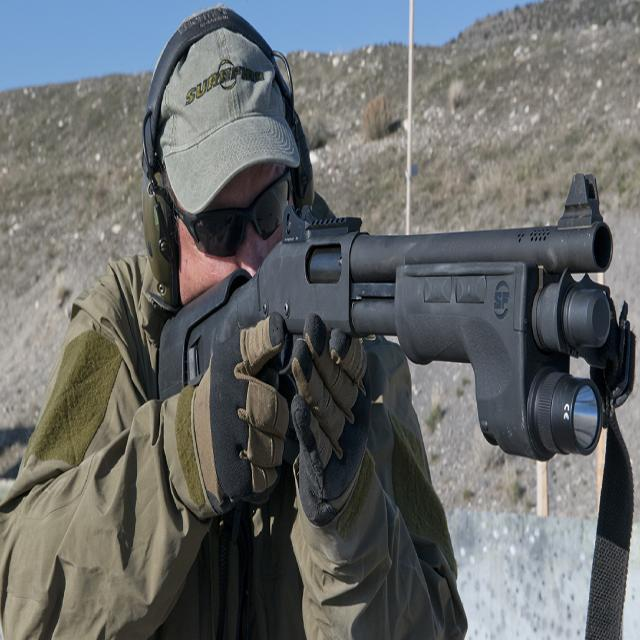ShotGun: (157, 174, 636, 463)
